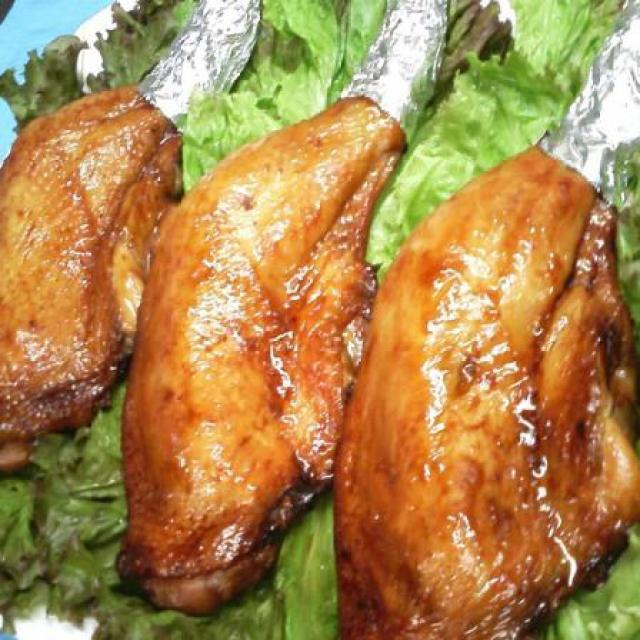Chicken: (363, 116, 636, 640), (140, 105, 380, 638), (2, 6, 178, 446)
